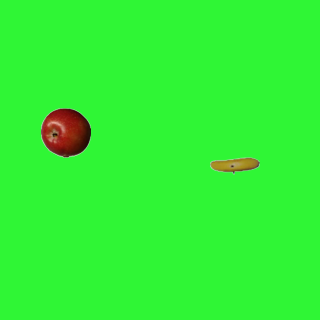Apple Braeburn: (40, 107, 90, 157)
Banana: (209, 140, 259, 190)
